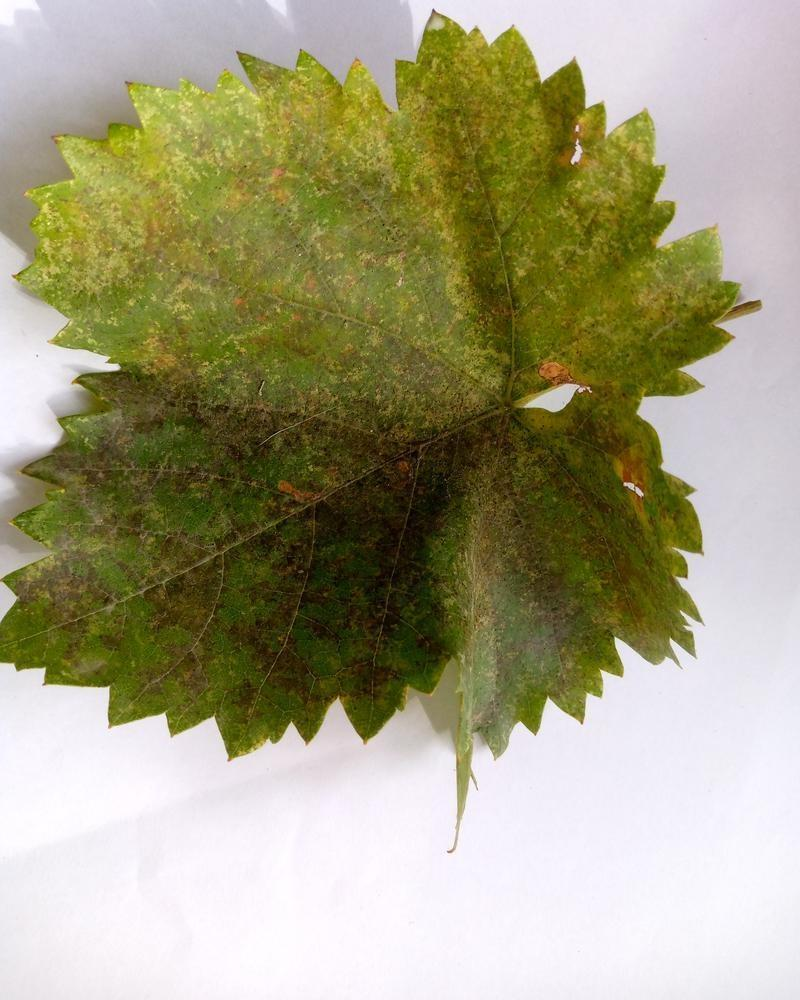Powdery-Mildew: (48, 74, 447, 345), (410, 507, 577, 726), (442, 52, 655, 222), (610, 232, 757, 355), (464, 293, 610, 407), (319, 244, 446, 371), (253, 416, 380, 543), (560, 442, 687, 569), (111, 343, 237, 470)
